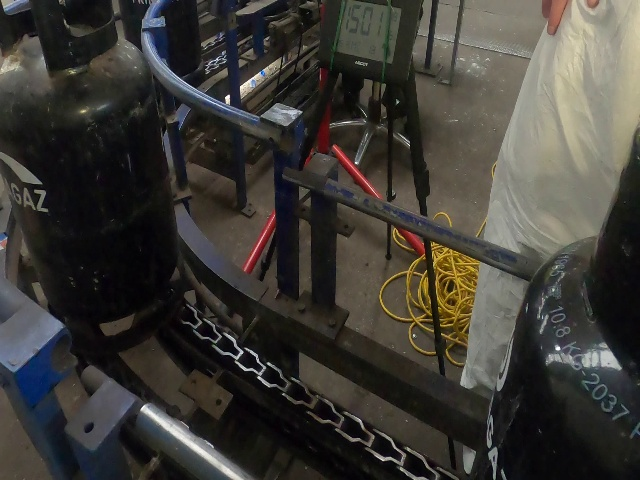gas_bottle: (0, 4, 640, 480)
